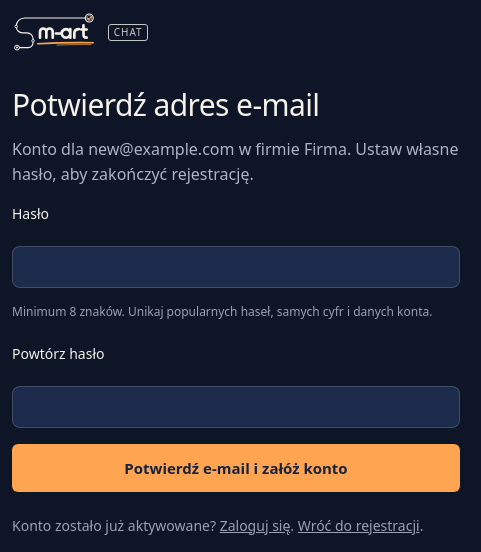
aktywacja › dopiero hasło i świadome zatwierdzenie aktywują konto
This screenshot has width=481, height=552.
In the password field labelled "Hasło": point(236, 267) [12,246,460,288], type "  Secret!Phrase729  "
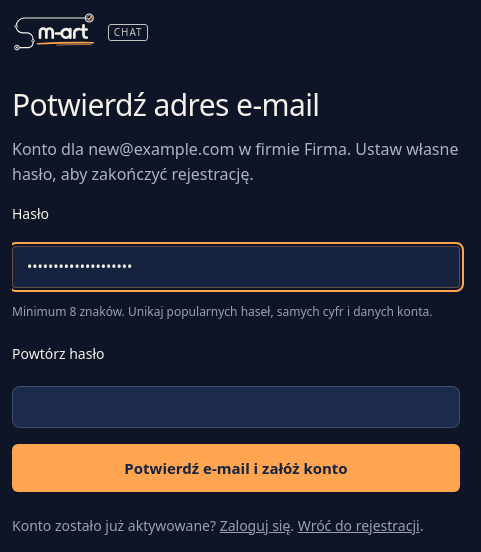
In the password field labelled "Powtórz hasło": point(236, 407) [12,386,460,428], type "  Secret!Phrase729  "
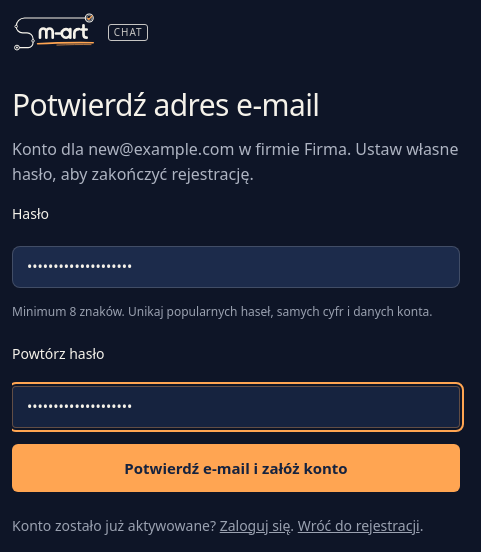
Click the button "Potwierdź e-mail i załóż konto": point(236, 468) [12,444,460,492]
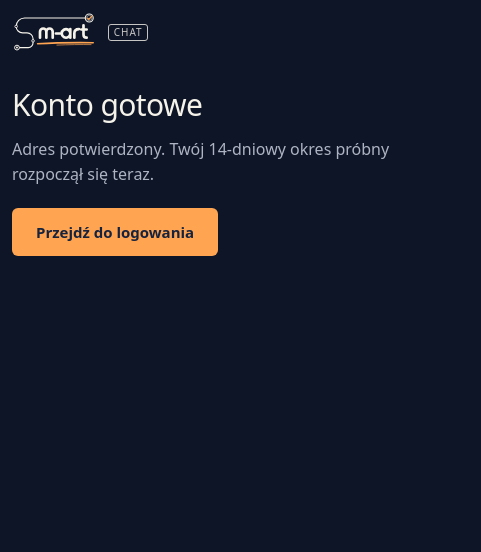
Expected: the heading "Konto gotowe" is shown, [12,84,202,125]
